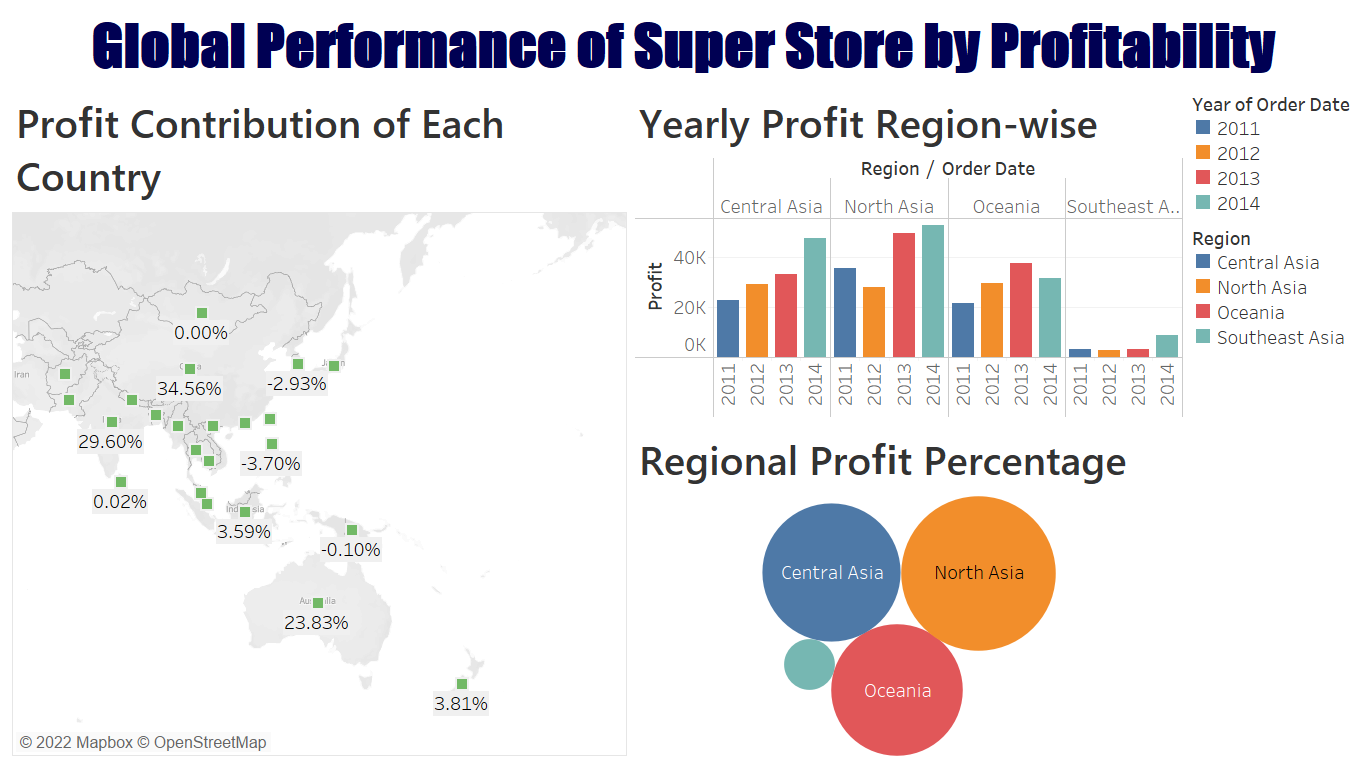

This screenshot's page, from the dashboard's own definition file:
{"tool":"tableau","page":{"name":"Dashboard-1","canvas":[1366,768],"ordinal":4},"visuals":[{"type":"title","box":[8,8,1350,77]},{"type":"worksheet","title":"country-profits","mark":"Square","box":[8,85,623,675]},{"type":"worksheet","title":"year-profit-region","mark":"Bar","rows":["Profit"],"cols":["Region","Order Date"],"box":[631,85,556,337.5]},{"type":"legend","title":"year-profit-region","param":"[federated.1e4h40q1rt7zu312f01az0g4erg2].[yr:Order Date:ok]","box":[1187,85,171,134]},{"type":"legend","title":"Region-profits","param":"[federated.1e4h40q1rt7zu312f01az0g4erg2].[none:Region:nk]","box":[1187,219,171,177]},{"type":"highlighter","title":"country-profits","param":"[federated.1e4h40q1rt7zu312f01az0g4erg2].[none:Country:nk]","box":[1187,396,171,60]},{"type":"worksheet","title":"Region-profits","mark":"Circle","box":[631,422.5,556,337.5]}]}

Visuals, with their boxes in screenshot pixels (x1, y1, x2, y2), scaled from the page's 1366x768 canvas onto the 1366x768 screenshot:
title: pyautogui.locateOnScreen(8, 8, 1358, 85)
"country-profits" worksheet (Square marks): pyautogui.locateOnScreen(8, 85, 631, 760)
"year-profit-region" worksheet (Bar marks): pyautogui.locateOnScreen(631, 85, 1187, 422)
"year-profit-region" legend: pyautogui.locateOnScreen(1187, 85, 1358, 219)
"Region-profits" legend: pyautogui.locateOnScreen(1187, 219, 1358, 396)
"country-profits" highlighter: pyautogui.locateOnScreen(1187, 396, 1358, 456)
"Region-profits" worksheet (Circle marks): pyautogui.locateOnScreen(631, 422, 1187, 760)
